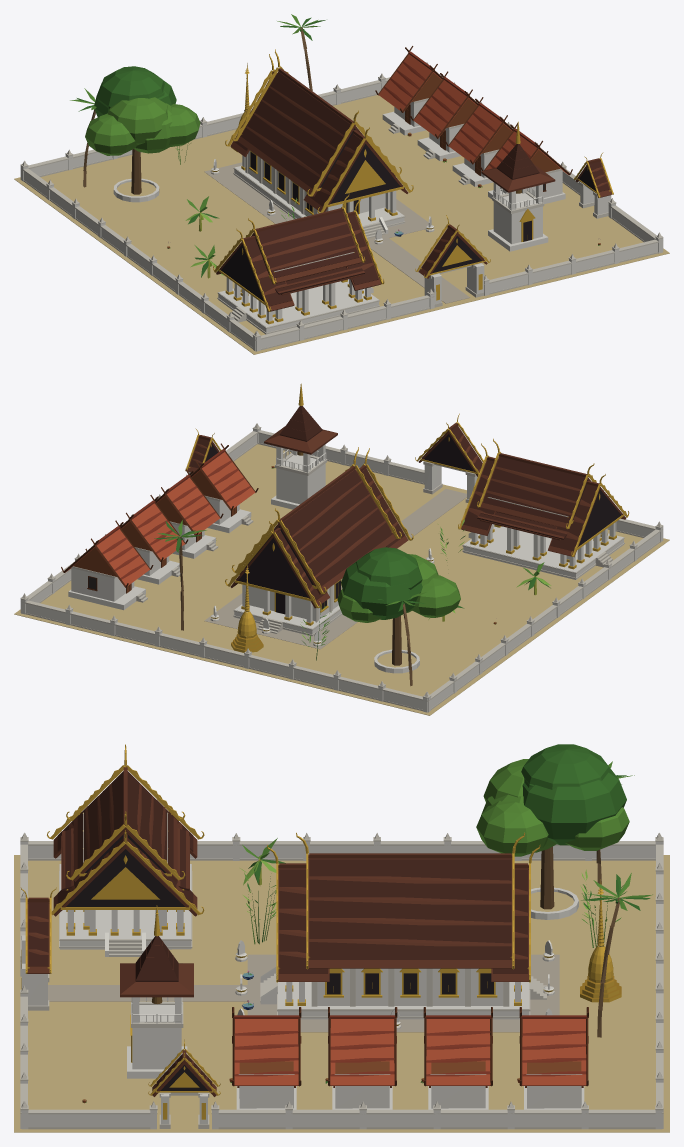
The model's file is temple_2.glb.
3 renders of one model, top to bottom at view 1: azimuth 30°, elevation 25°; view 2: azimuth 150°, elevation 25°; view 3: azimuth 270°, elevation 25°, orthographic. The views are drawn at different scales.
Parts seen in each view (by area): view 1: body; view 2: body; view 3: body.
Part boxes in pixels (box(x1,y1,x2,y2)): body: box(14, 14, 669, 354); body: box(14, 383, 669, 715); body: box(14, 744, 669, 1132).
Bounding box in the file's own units: 47.9 × 13.33 × 47.9.
